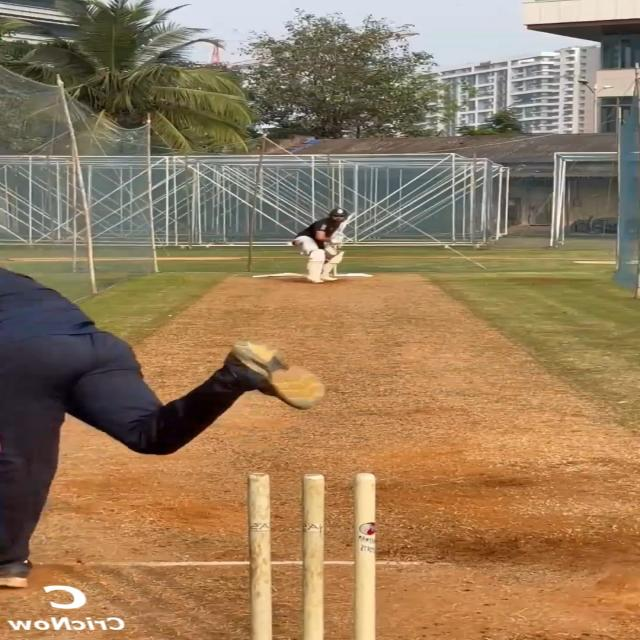ball: (290, 240, 304, 247)
stump: (248, 472, 380, 640)
